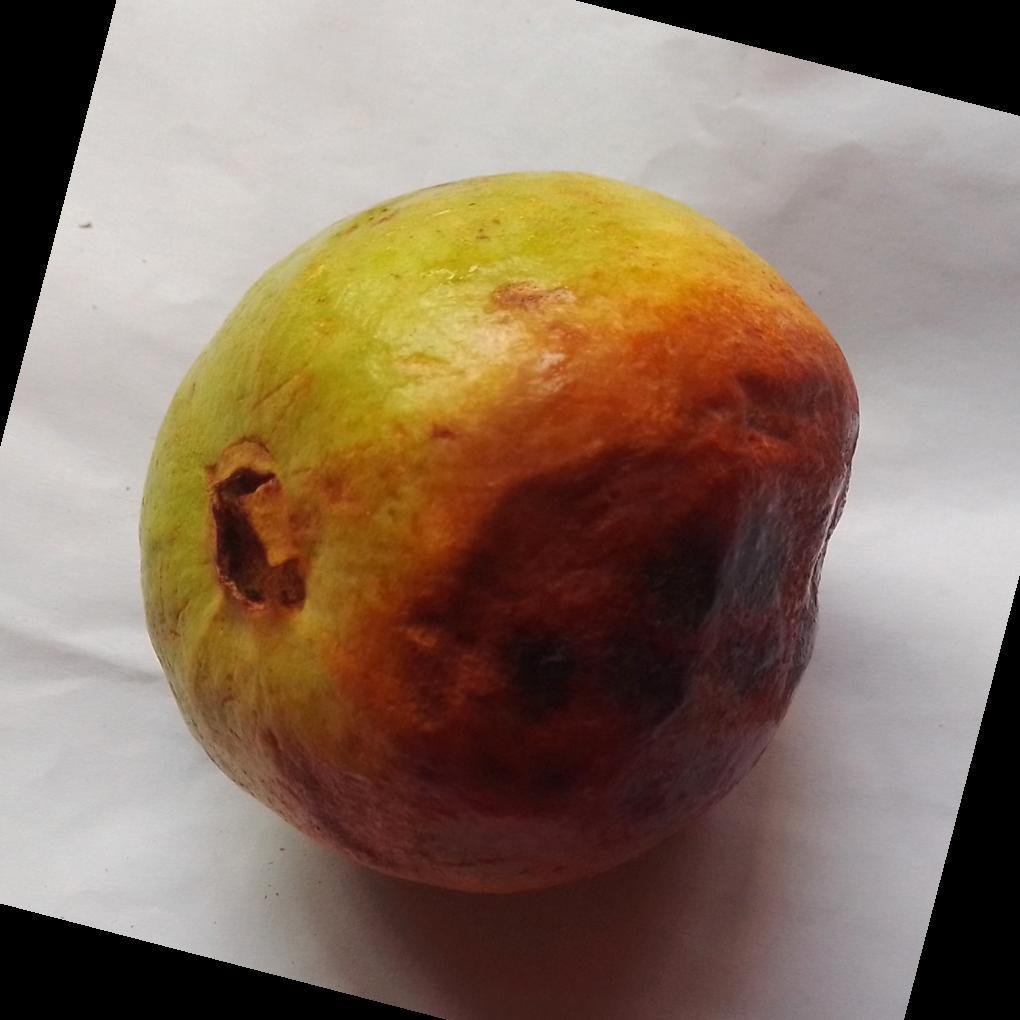FreshOrange: (135, 172, 861, 901)
